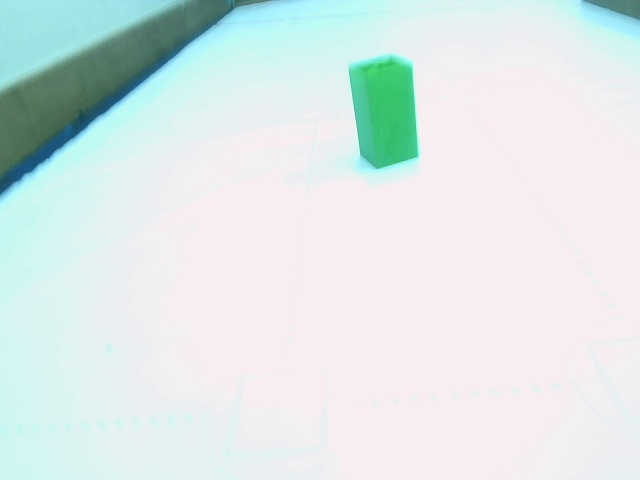green: (347, 61, 420, 163)
